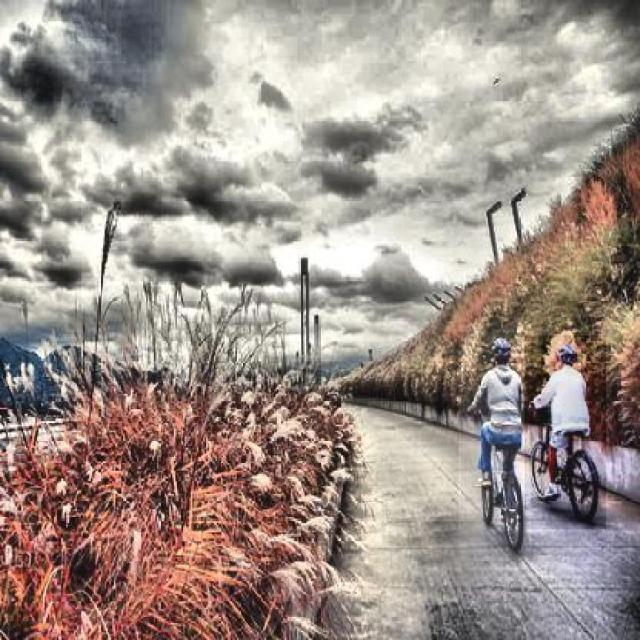bikerider: (458, 325, 531, 560), (525, 337, 606, 529)
